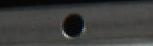holes: (60, 12, 85, 39)
